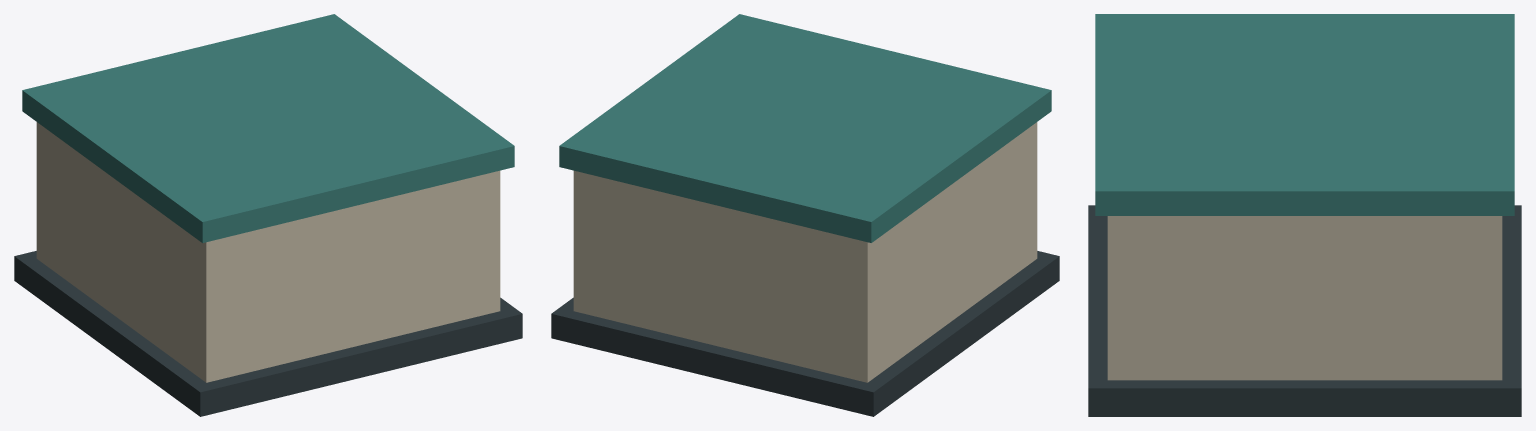
File: factory-lod2.9a046106d9a4.glb
The picture shows the model from 3 angles, left to right: view 1: azimuth 30°, elevation 25°; view 2: azimuth 150°, elevation 25°; view 3: azimuth 270°, elevation 25°; orthographic projection. The views are drawn at different scales.
Visible parts, largest first — view 1: body; view 2: body; view 3: body.
Boxes of the visible parts, x1,y1,x2,y2 form: body: (14,14,522,416); body: (551,14,1059,416); body: (1088,14,1521,416).
Bounding box in the file's own units: 3.84 × 2.18 × 3.84.
